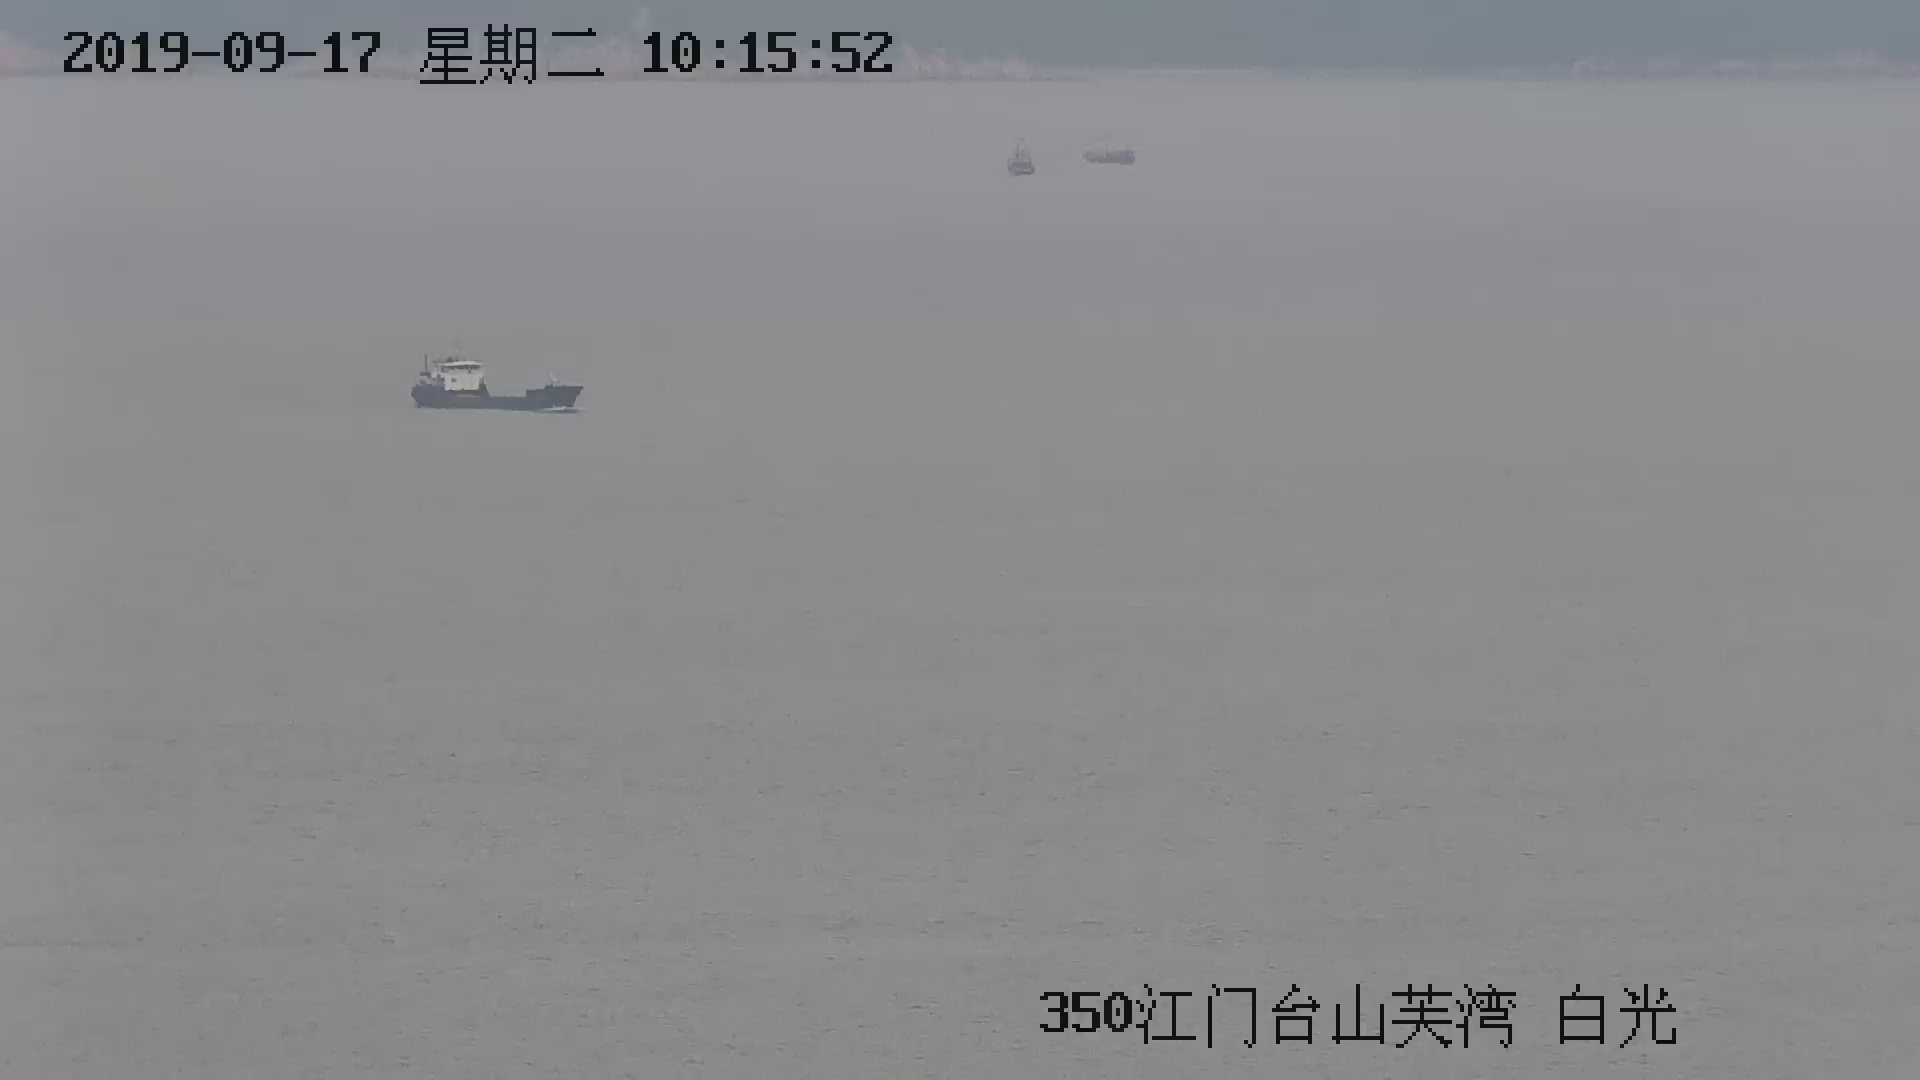ship: (406, 347, 585, 411)
